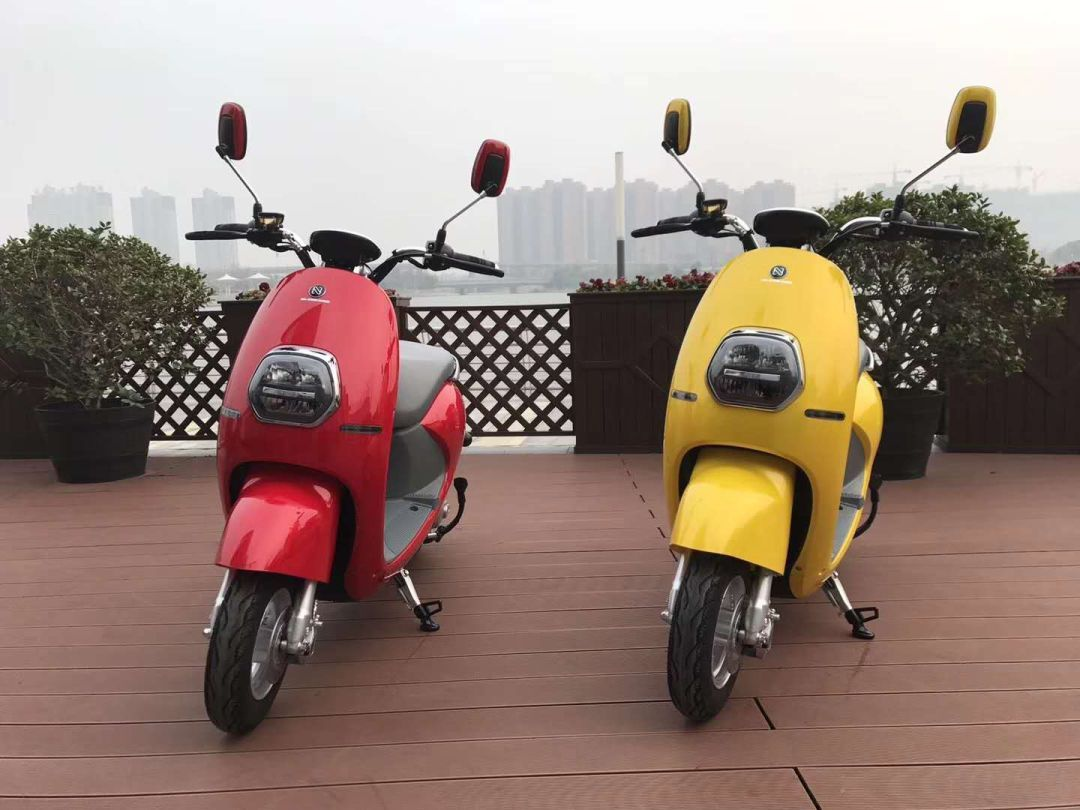non-vehicle: (613, 198, 982, 727), (179, 207, 509, 740)
